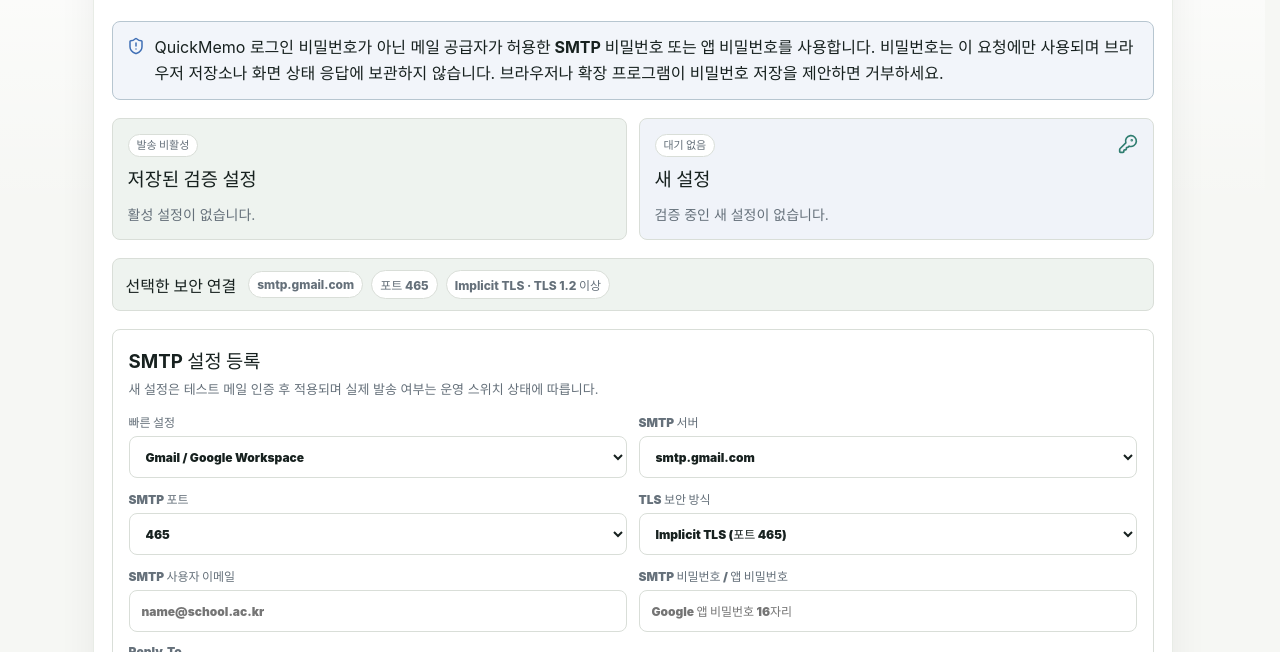
Test case: AdminEmailSettingsPanel › shows a safe re-login instruction and does not echo server content
The image size is (1280, 652).
In the field labelled "SMTP 사용자 이메일": (378, 612) top-left (128, 590), bottom-right (626, 632), type "quickmemo.test@gmail.com"
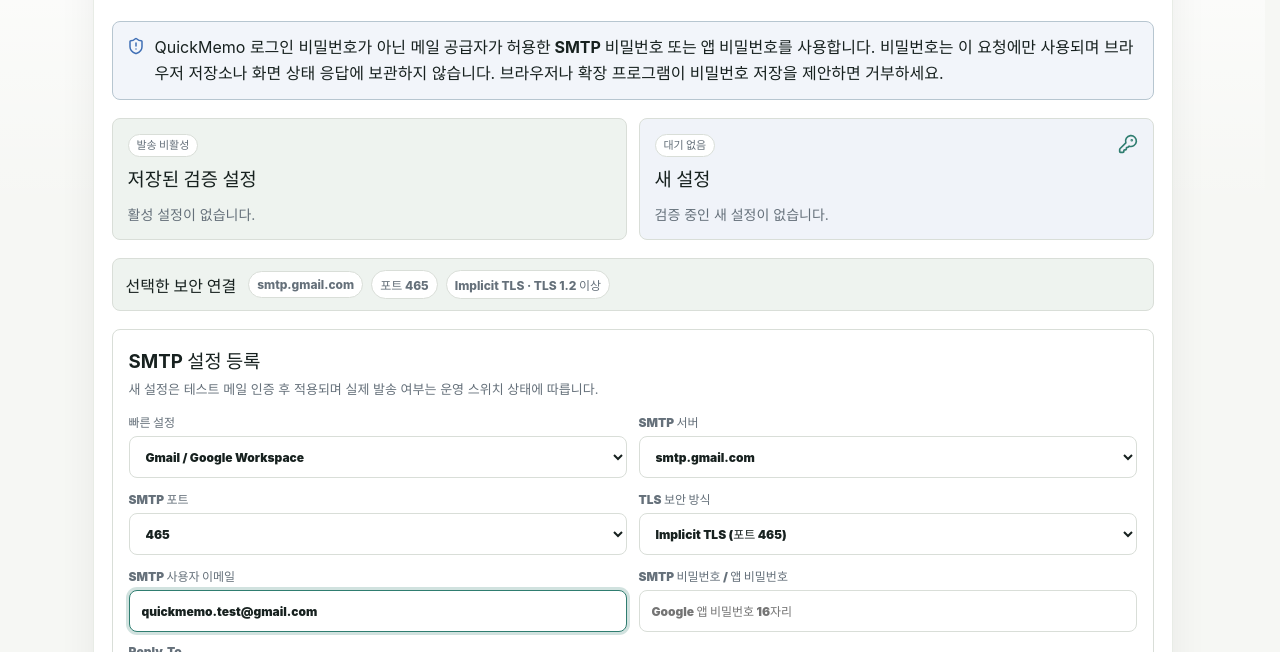
In the password field labelled "SMTP 비밀번호 / 앱 비밀번호": (888, 612) top-left (638, 590), bottom-right (1136, 632), type "abcdefghijklmnop"
(page scrolled)
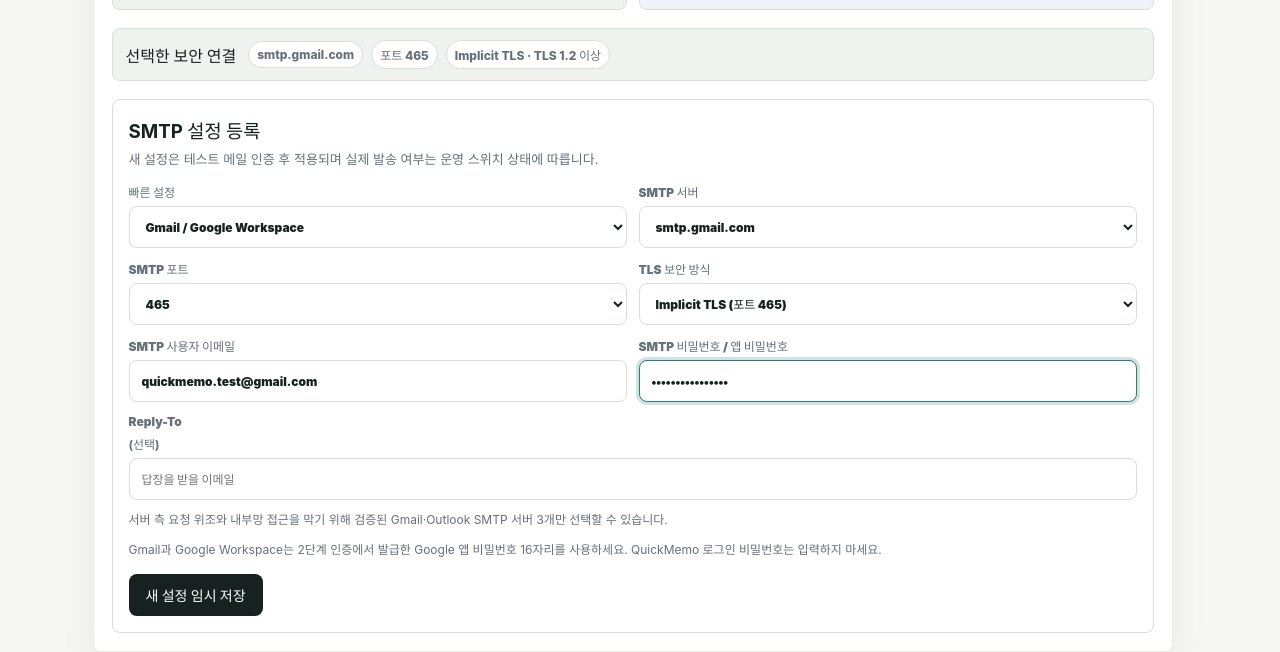
Click the button "새 설정 임시 저장": click(196, 595) top-left (128, 574), bottom-right (263, 616)
(page scrolled)
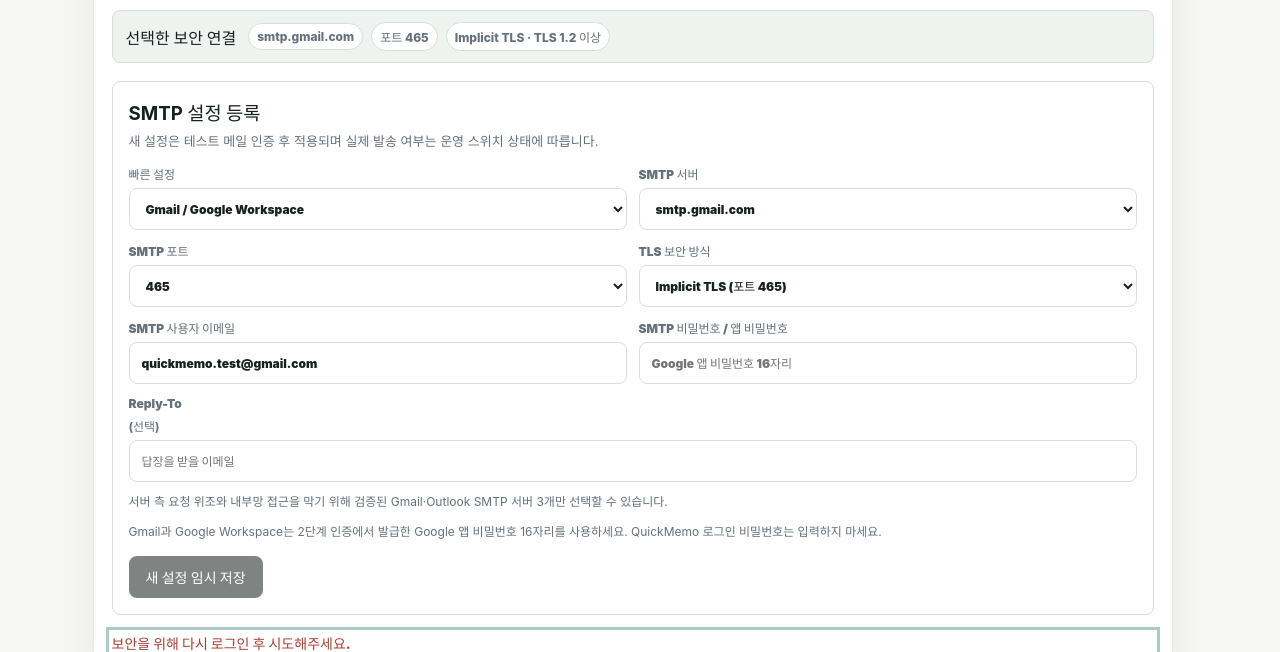
Result: the message reads "보안을 위해 다시 로그인 후 시도해주세요." at top-left (112, 635), bottom-right (351, 651)
Result: the password field labelled "SMTP 비밀번호 / 앱 비밀번호" is empty at top-left (638, 342), bottom-right (1136, 384)
